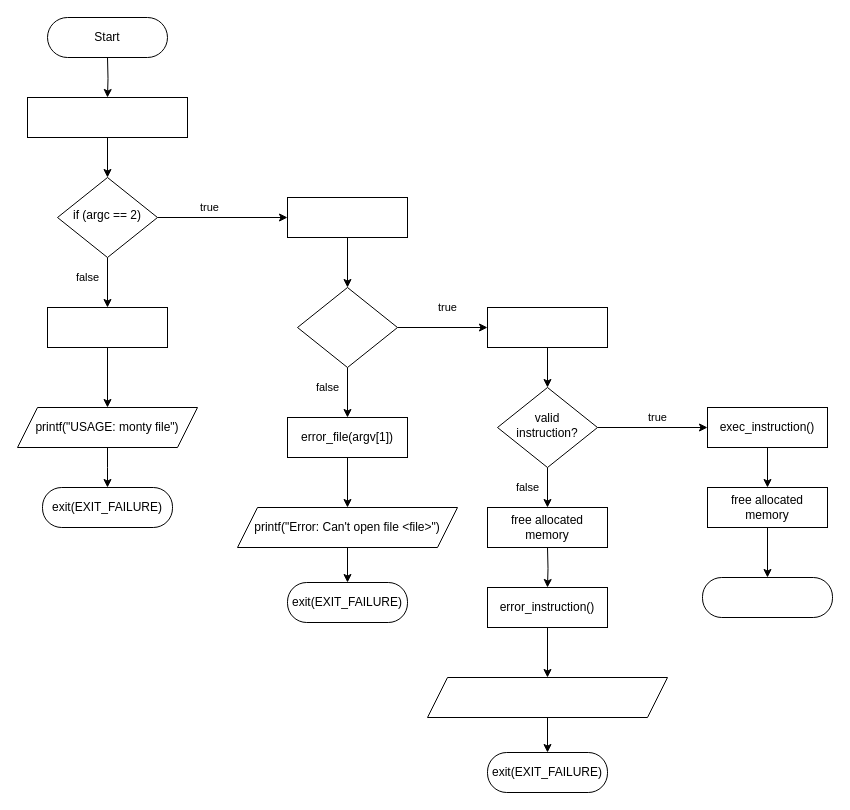
The diagram is 850 pixels wide and 810 high, and some of its shapes have lost their labels. The box of each missing label's shape, as (x1, y1, x2, y2) in pixels:
error_usage(): (46, 306, 168, 348)
exit(EXIT_SUCCESS): (702, 576, 832, 618)
fopen(argv[1], "r"): (286, 196, 408, 238)
if (file): (296, 286, 398, 368)
L<line_number>: unknown instruction <opcode>: (426, 676, 668, 718)
main (int argc, char *argv): (26, 96, 188, 138)
tokenize argv: (486, 306, 608, 348)
